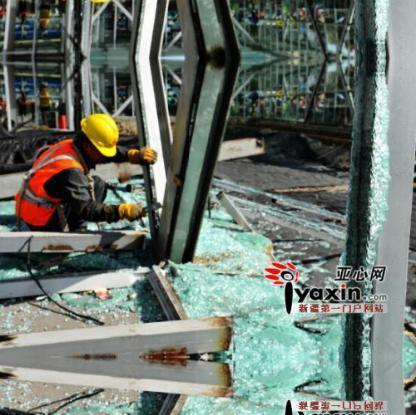helmet: (78, 104, 126, 158)
